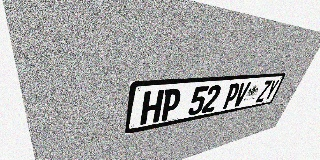2: (201, 84, 222, 113)
5: (187, 86, 209, 116)
H: (140, 90, 164, 125)
P: (159, 88, 183, 122), (221, 83, 241, 109)
V: (232, 82, 251, 107)
Y: (263, 79, 280, 101)
Z: (255, 80, 273, 103)
